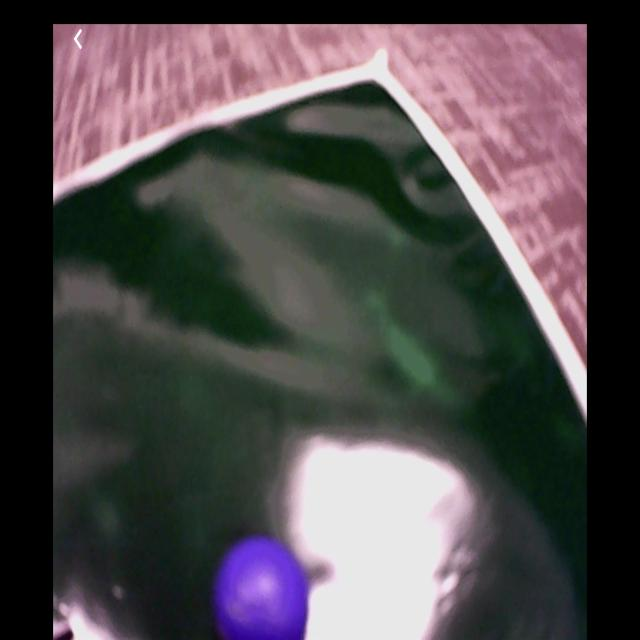ball: (219, 540, 306, 639)
